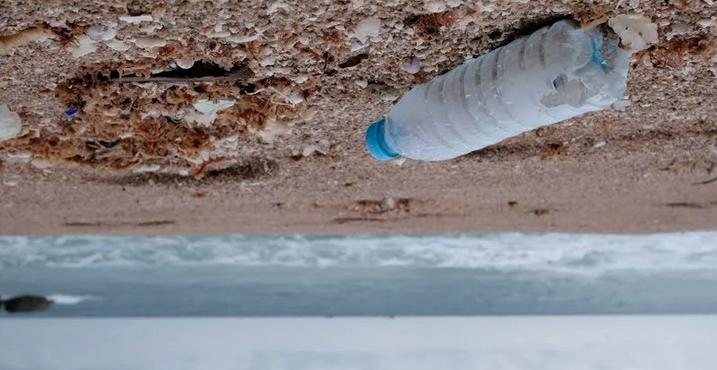Plastic: (362, 9, 633, 165)
